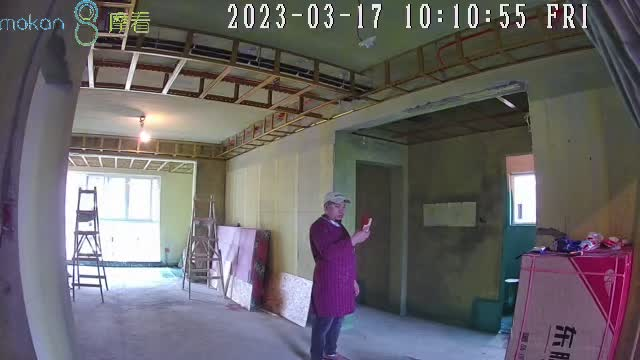people: (310, 192, 369, 360)
window: (67, 173, 159, 265)
